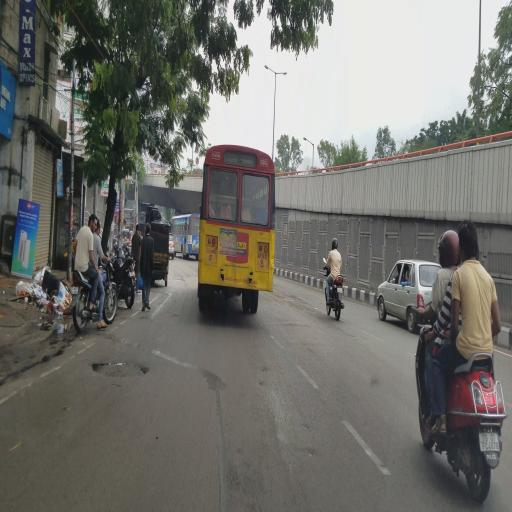street_light_0: (259, 58, 279, 84), (276, 61, 292, 83), (300, 134, 317, 152)
